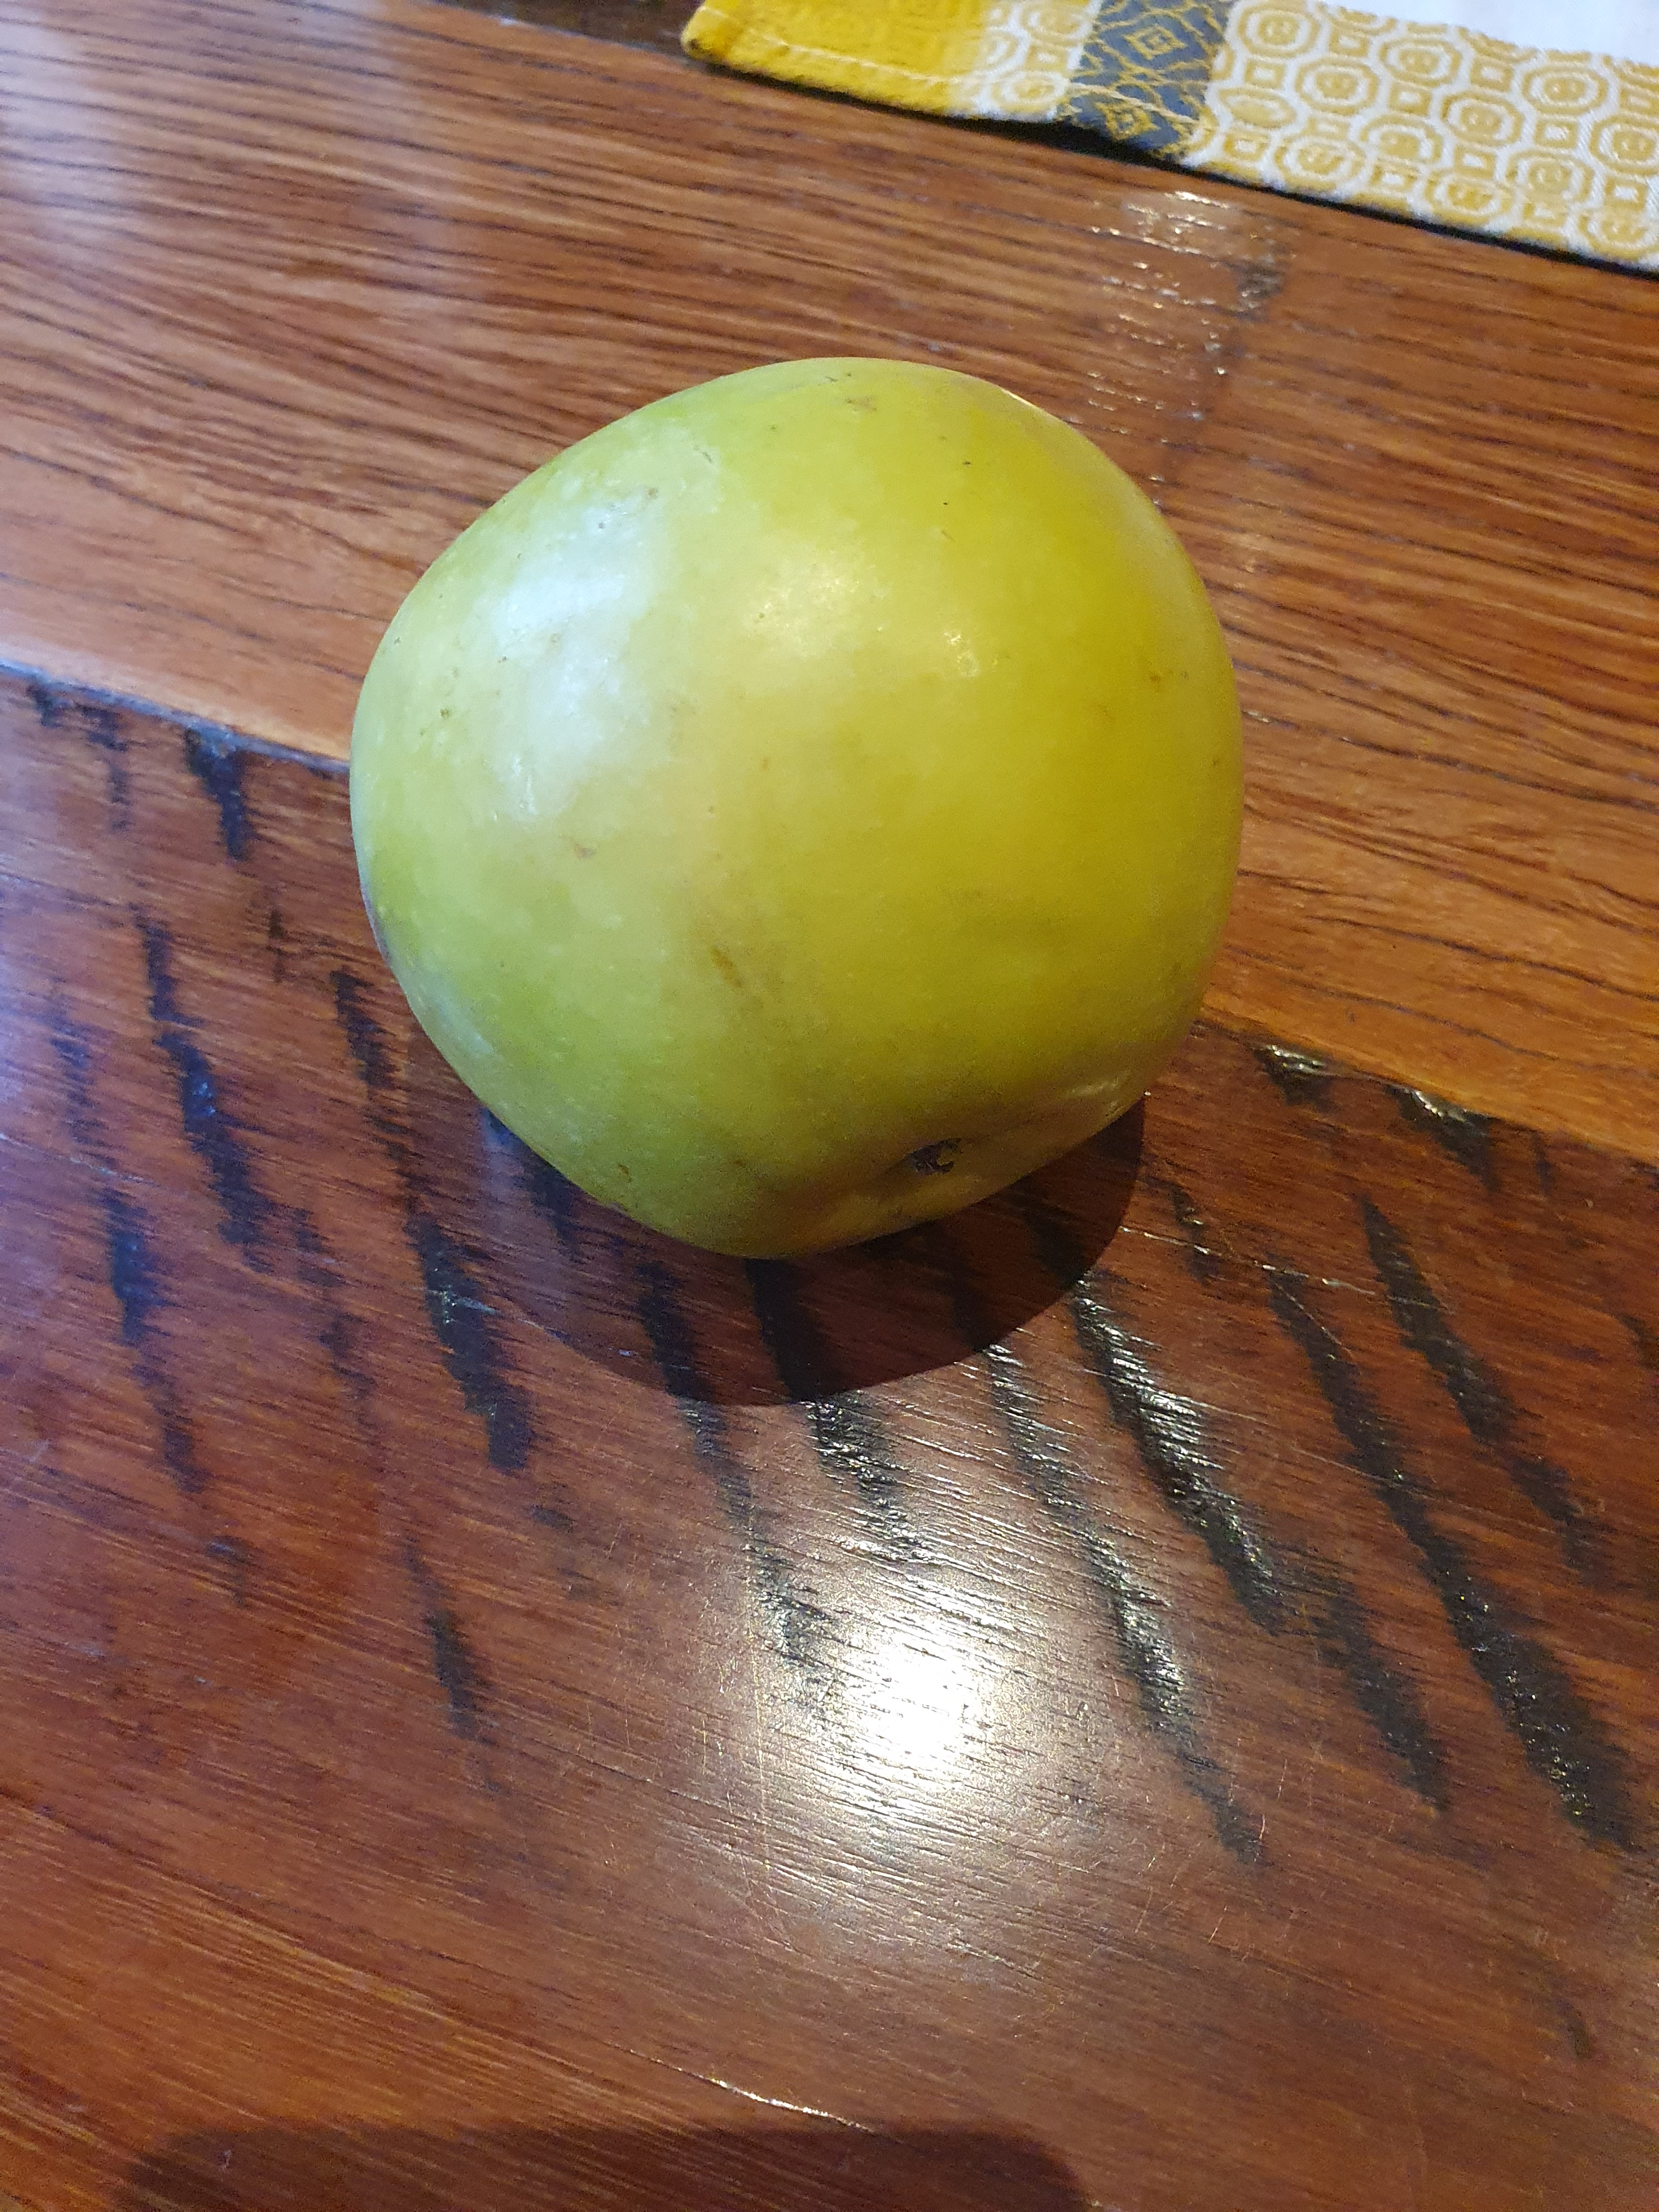green apple: (251, 331, 1269, 1327)
